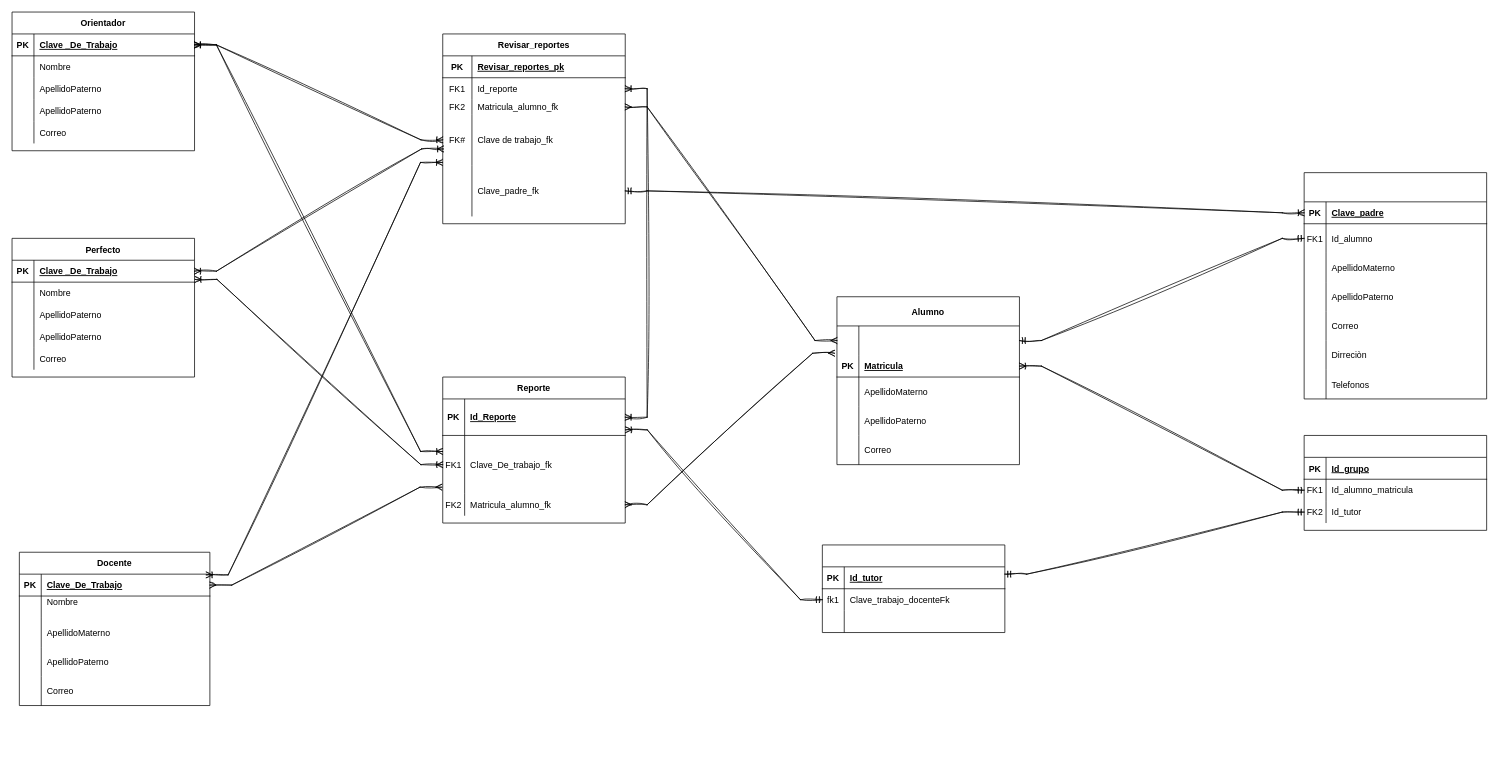
The diagram is 1499 pixels wide and 783 high, and some of its shapes have lost their labels. Each missing label, with the box of its shape:
Salon: (1303, 435, 1487, 530)
Tutor_escolar: (822, 544, 1005, 633)
Tutor_familiar: (1303, 172, 1487, 399)
